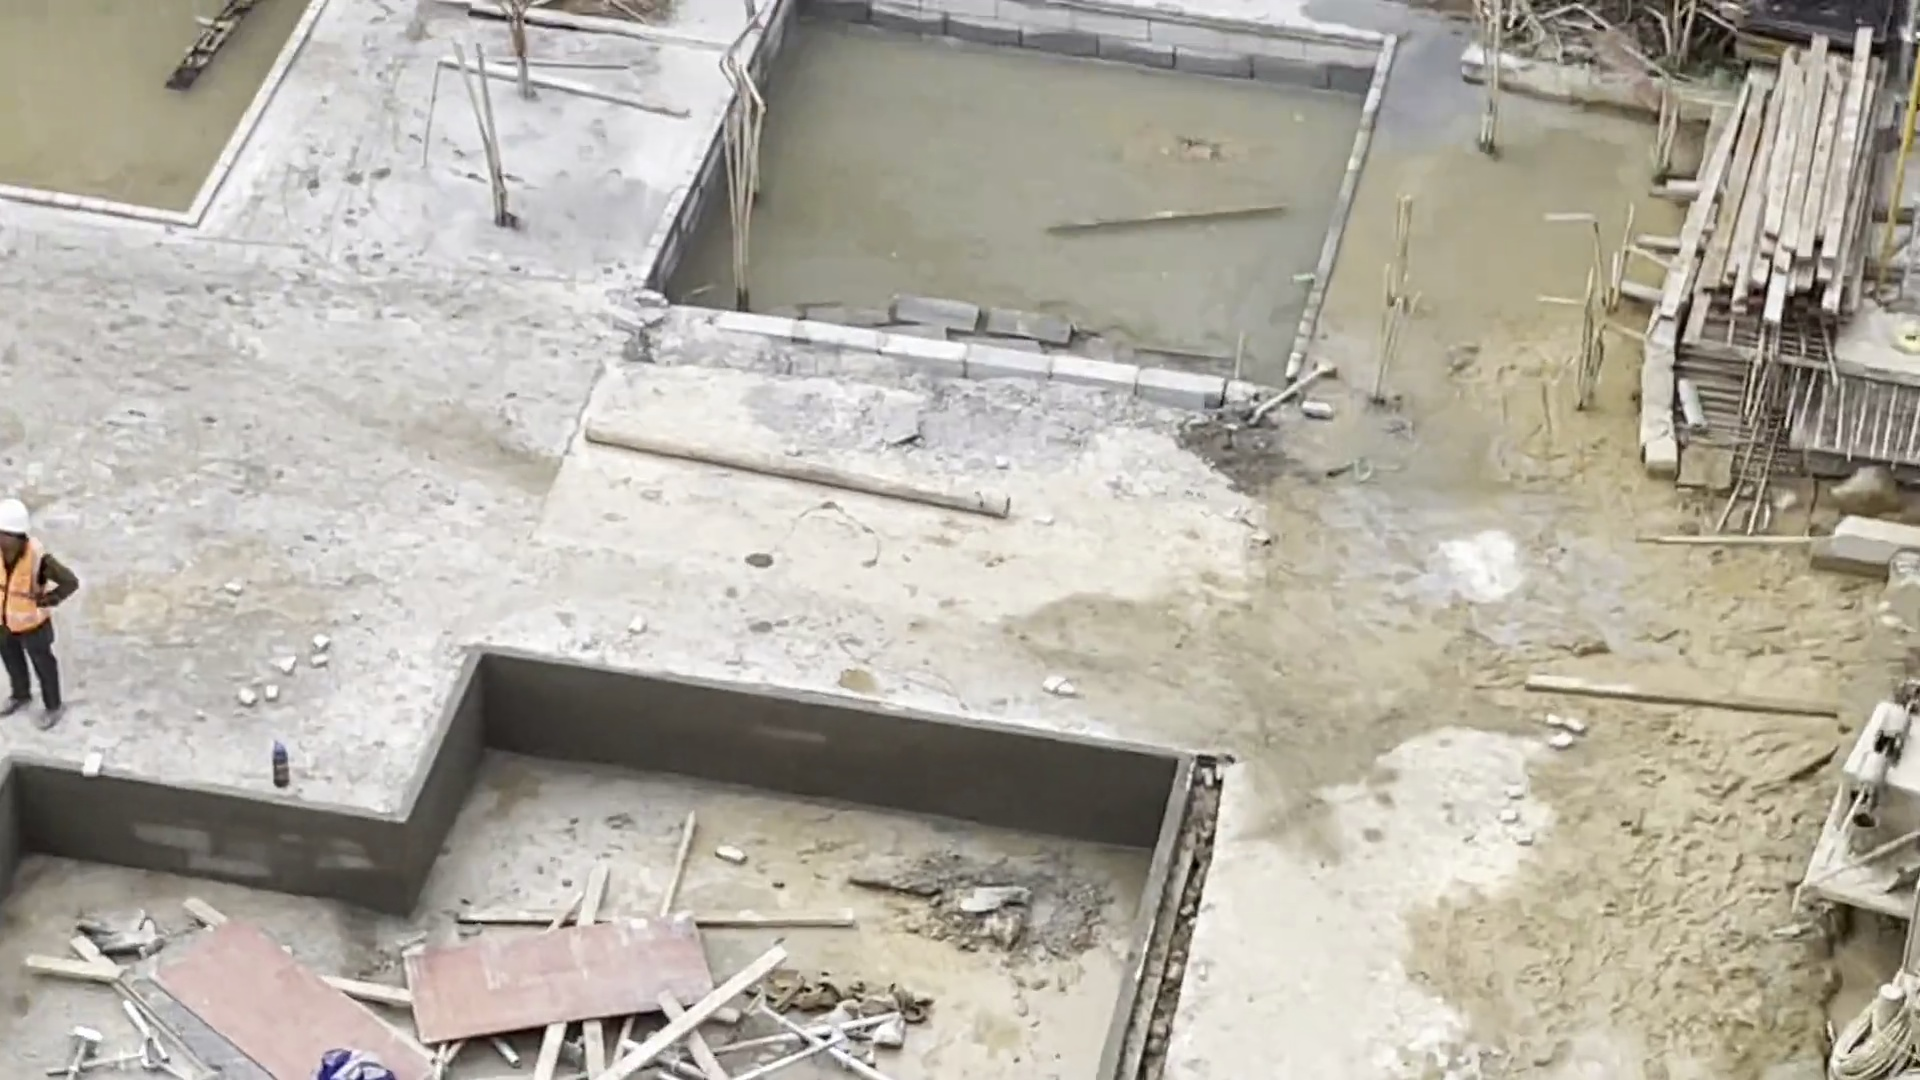helmet: (1, 499, 38, 538)
person: (1, 494, 84, 736)
vest: (1, 540, 60, 638)
